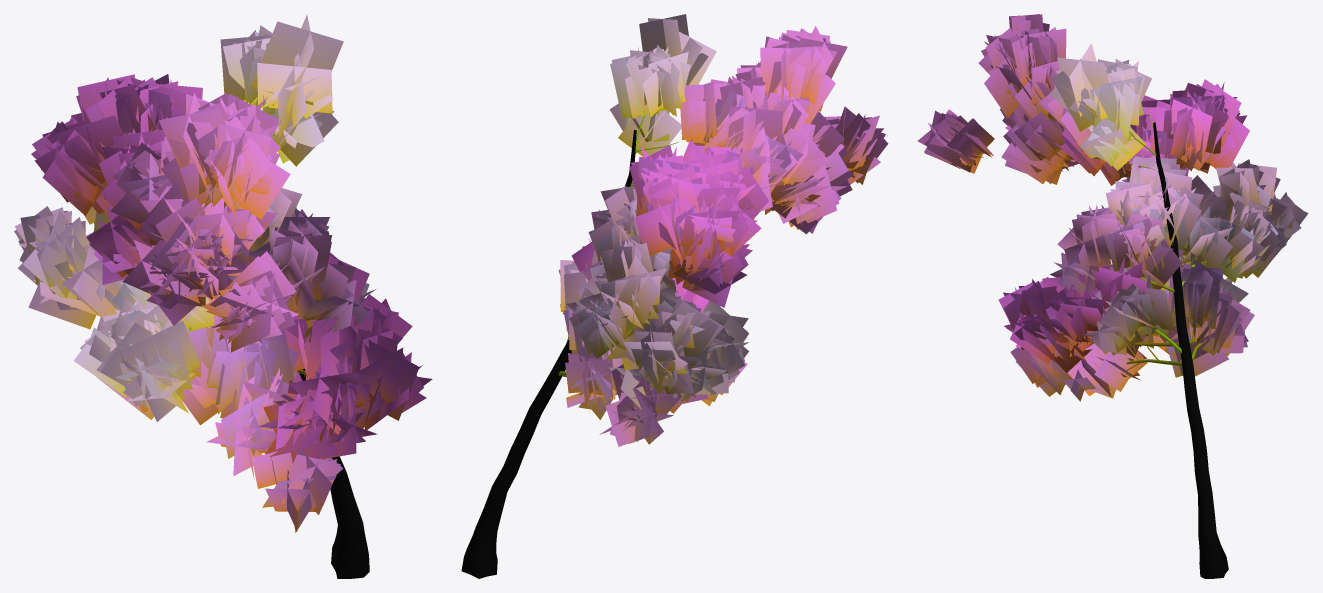
Rendered from tree_pine_a.glb.
The picture shows the model from 3 angles, left to right: view 1: azimuth 30°, elevation 25°; view 2: azimuth 150°, elevation 25°; view 3: azimuth 270°, elevation 25°; orthographic projection. The views are drawn at different scales.
Visible parts, largest first — view 1: tree_pine_a; view 2: tree_pine_a; view 3: tree_pine_a.
Part boxes in pixels (left/top/right/bottom): tree_pine_a: left=14, top=14, right=432, bottom=578; tree_pine_a: left=461, top=14, right=888, bottom=578; tree_pine_a: left=917, top=14, right=1308, bottom=578.
Bounding box in the file's own units: 6.76 × 12.1 × 9.01.
